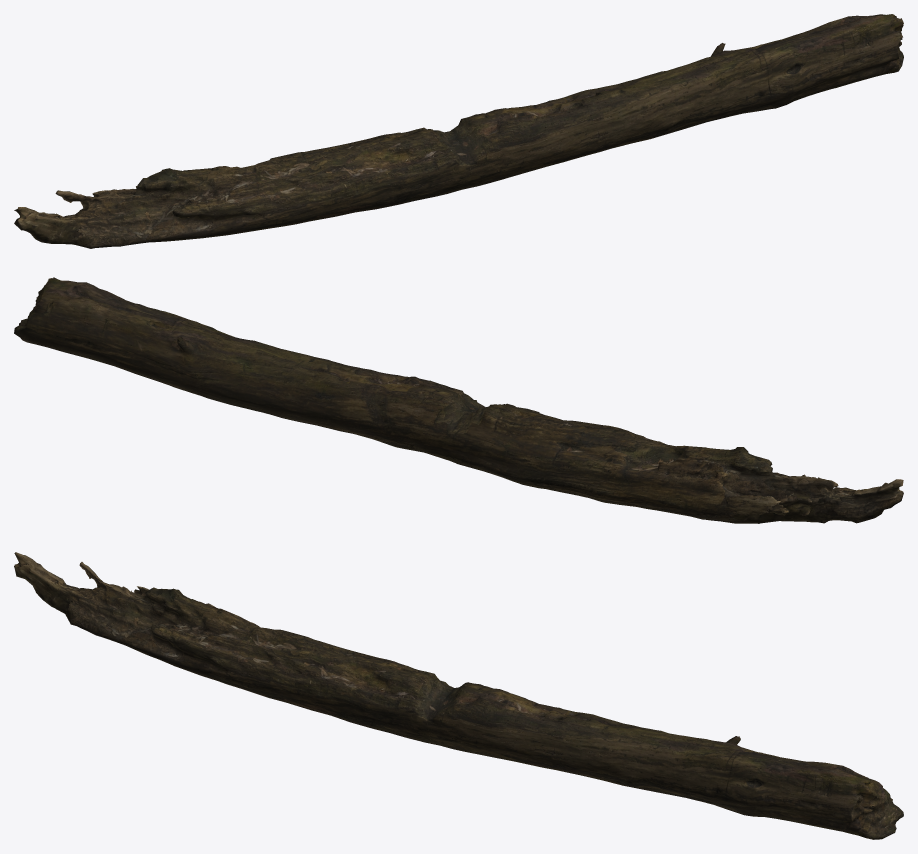
The model's file is fallen_log.glb.
3 renders of one model, top to bottom at view 1: azimuth 30°, elevation 25°; view 2: azimuth 150°, elevation 25°; view 3: azimuth 330°, elevation 25°, orthographic.
Visible parts, largest first — view 1: dead_tree_trunk; view 2: dead_tree_trunk; view 3: dead_tree_trunk.
Part boxes in pixels (x1,y1,x2,y2): dead_tree_trunk: [14, 14, 903, 248]; dead_tree_trunk: [14, 277, 903, 523]; dead_tree_trunk: [14, 552, 903, 839].
Size of the model in its own units: 2.8 by 0.2656 by 0.2541.
1 material, 1 textured.
